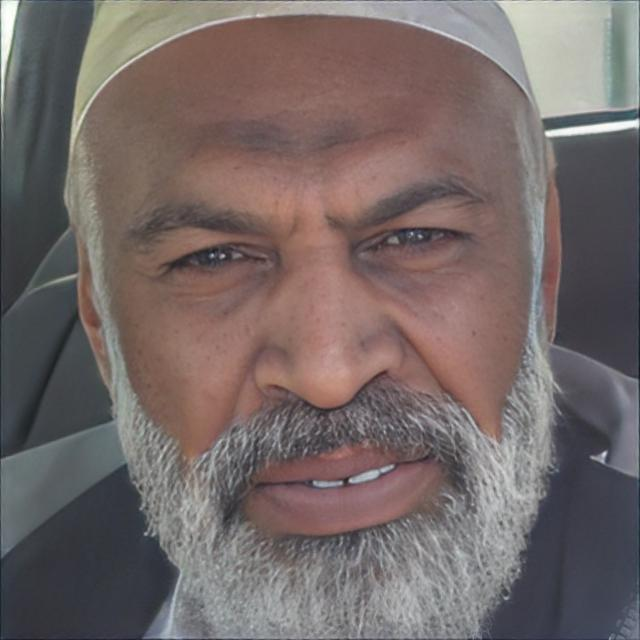disgust: (93, 13, 546, 640)
